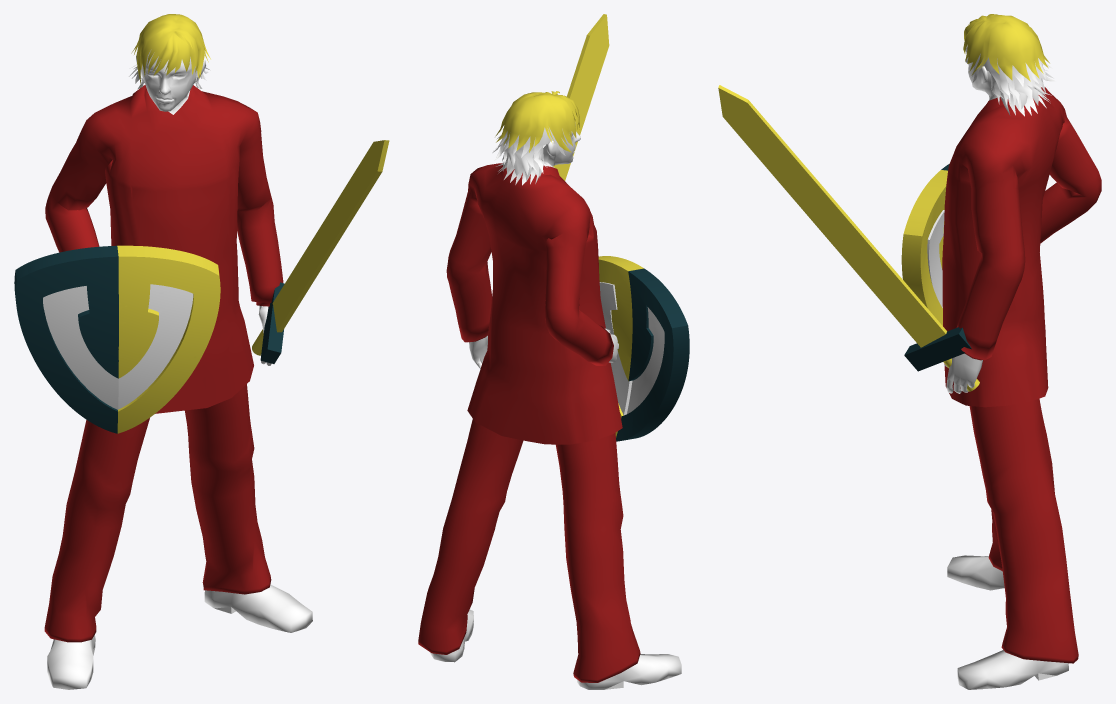
File: semantischemoraalridder.obj
3 renders of one model, left to right at view 1: azimuth 30°, elevation 25°; view 2: azimuth 150°, elevation 25°; view 3: azimuth 270°, elevation 25°, orthographic. The views are drawn at different scales.
Bounding box in the file's own units: 87.41 × 182 × 103.
